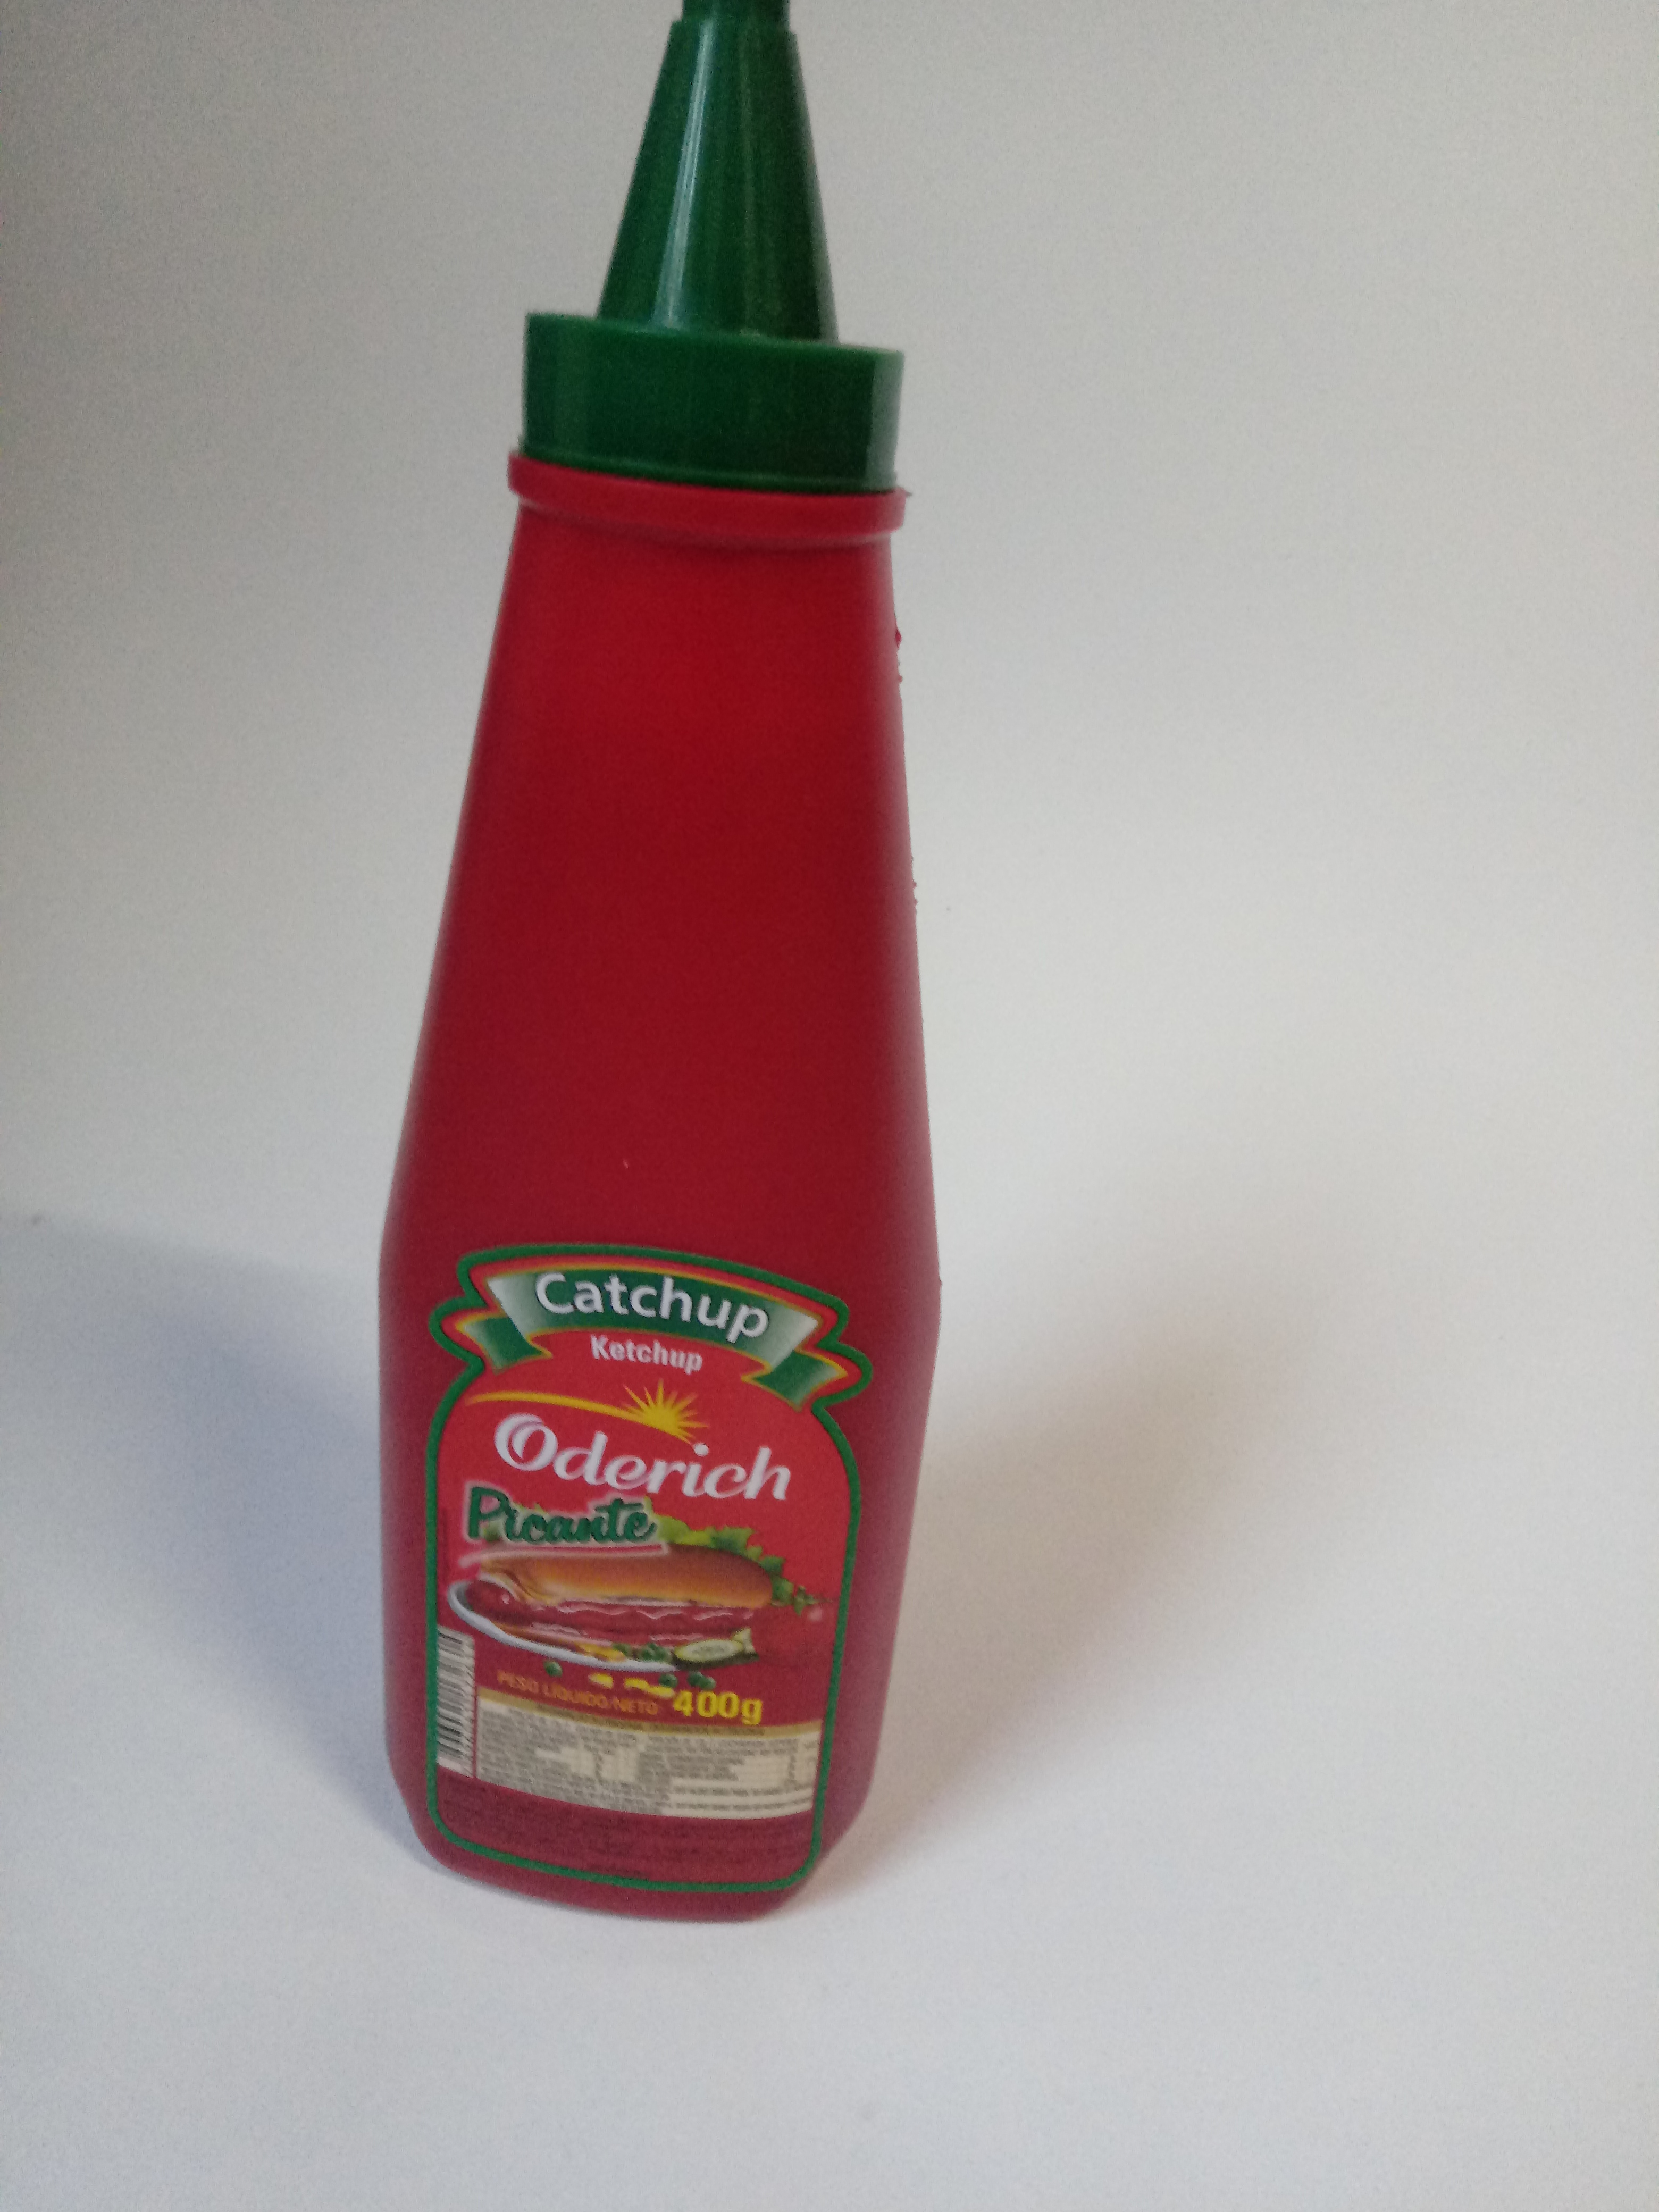catchup-oderich: (345, 9, 969, 1933)
